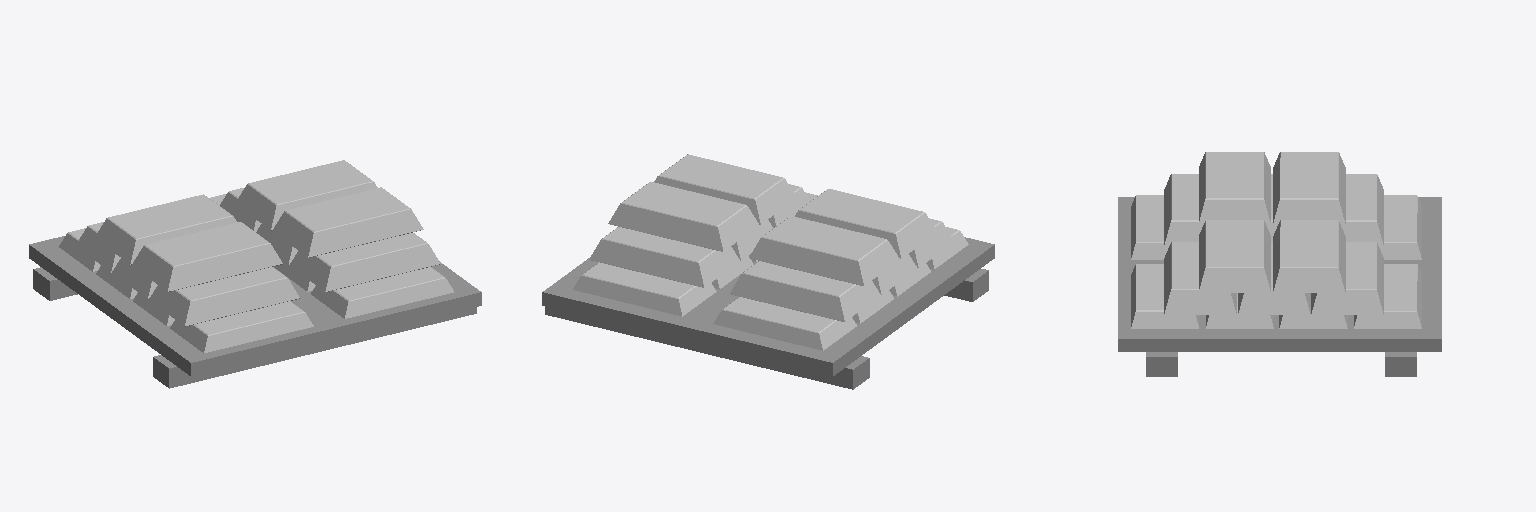
The model's file is gold_bar.obj.
3 renders of one model, left to right at view 1: azimuth 30°, elevation 25°; view 2: azimuth 150°, elevation 25°; view 3: azimuth 270°, elevation 25°, orthographic.
Visible parts, largest first — view 1: Cube, Cube.010_Cube.011, Cube.017_Cube.019, Cube.013_Cube.015, Cube.006_Cube.007, Cube.016_Cube.018, Cube.009_Cube.010, Cube.012_Cube.014, Cube.005_Cube.006, Cube.015_Cube.017, Cube.014_Cube.016, Cube.002_Cube.012 (+2 smaller); view 2: Cube, Cube.009_Cube.010, Cube.016_Cube.018, Cube.015_Cube.017, Cube.008_Cube.009, Cube.010_Cube.011, Cube.017_Cube.019, Cube.003_Cube.004, Cube.002_Cube.012, Cube.013_Cube.015, Cube.014_Cube.016, Cube.007_Cube.008 (+2 smaller); view 3: Cube, Cube.009_Cube.010, Cube.010_Cube.011, Cube.016_Cube.018, Cube.017_Cube.019, Cube.008_Cube.009, Cube.006_Cube.007, Cube.003_Cube.004, Cube.005_Cube.006, Cube.015_Cube.017, Cube.002_Cube.012, Cube.013_Cube.015 (+4 smaller).
Part boxes in pixels (x1,y1,x2,y2): Cube: (29,236,481,388); Cube.010_Cube.011: (272,187,423,257); Cube.017_Cube.019: (131,222,282,291); Cube.013_Cube.015: (149,267,299,326); Cube.006_Cube.007: (289,233,440,291); Cube.016_Cube.018: (95,194,236,264); Cube.009_Cube.010: (235,160,377,230); Cube.012_Cube.014: (170,301,313,352); Cube.005_Cube.006: (311,267,453,318); Cube.015_Cube.017: (75,222,120,272); Cube.014_Cube.016: (112,258,157,299); Cube.002_Cube.012: (59,228,100,271); Cube: (542,237,994,389); Cube.009_Cube.010: (608,182,759,251); Cube.016_Cube.018: (749,216,899,285); Cube.015_Cube.017: (730,261,880,321); Cube.008_Cube.009: (589,227,739,287); Cube.010_Cube.011: (654,154,796,224); Cube.017_Cube.019: (795,189,937,258); Cube.003_Cube.004: (573,262,716,316); Cube.002_Cube.012: (713,297,856,350); Cube.013_Cube.015: (909,218,954,267); Cube.014_Cube.016: (872,254,917,294); Cube.007_Cube.008: (731,220,773,260); Cube: (1118,197,1441,376); Cube.009_Cube.010: (1273,220,1345,292); Cube.010_Cube.011: (1199,220,1270,292); Cube.016_Cube.018: (1273,152,1345,223); Cube.017_Cube.019: (1199,152,1270,223); Cube.008_Cube.009: (1311,242,1383,314); Cube.006_Cube.007: (1164,242,1236,314); Cube.003_Cube.004: (1354,264,1421,328); Cube.005_Cube.006: (1131,264,1199,328); Cube.015_Cube.017: (1341,174,1383,245); Cube.002_Cube.012: (1379,195,1421,259); Cube.013_Cube.015: (1164,174,1203,245).
Size of the model in its own units: 8.71 by 2.49 by 7.94.